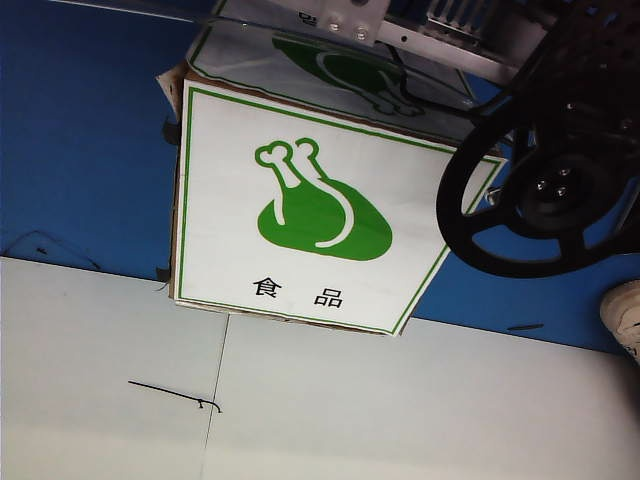Cube_food: (245, 128, 399, 317)
